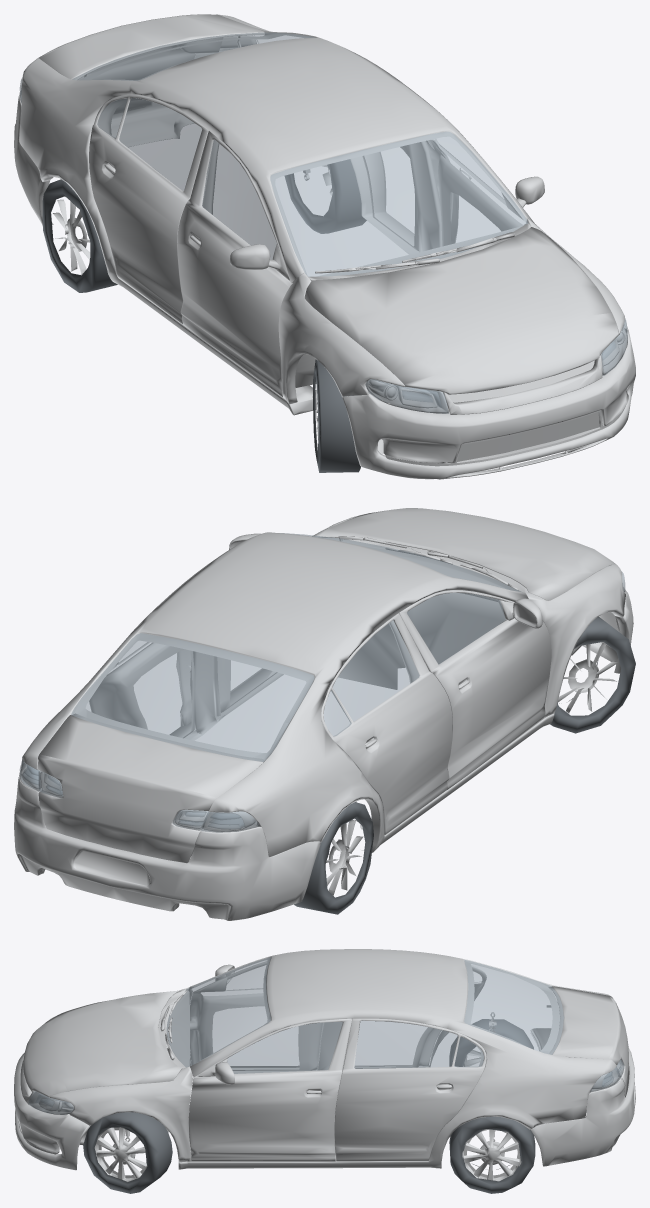
The model's file is sedan.glb.
The picture shows the model from 3 angles, top to bottom: view 1: azimuth 30°, elevation 25°; view 2: azimuth 150°, elevation 25°; view 3: azimuth 270°, elevation 25°; orthographic projection. The views are drawn at different scales.
Parts seen in each view (by area): view 1: Object_23, Object_209, Object_43, Object_25, Object_241, Object_137; view 2: Object_23, Object_43, Object_25, Object_241, Object_137, Object_209; view 3: Object_23, Object_43, Object_241, Object_209, Object_137, Object_25.
Part boxes in pixels (left/top/right/bottom): Object_23: left=14, top=14, right=635, bottom=479; Object_209: left=270, top=131, right=528, bottom=276; Object_43: left=19, top=32, right=627, bottom=413; Object_25: left=21, top=35, right=627, bottom=466; Object_241: left=42, top=159, right=366, bottom=472; Object_137: left=53, top=165, right=332, bottom=439; Object_23: left=14, top=508, right=633, bottom=920; Object_43: left=19, top=571, right=625, bottom=832; Object_25: left=21, top=536, right=625, bottom=831; Object_241: left=294, top=617, right=635, bottom=914; Object_137: left=326, top=642, right=618, bottom=895; Object_209: left=280, top=533, right=520, bottom=591; Object_23: left=14, top=949, right=635, bottom=1170; Object_43: left=28, top=960, right=624, bottom=1114; Object_241: left=83, top=1019, right=535, bottom=1193; Object_209: left=166, top=957, right=270, bottom=1067; Object_137: left=94, top=1012, right=521, bottom=1181; Object_25: left=18, top=977, right=622, bottom=1154.
Size of the model in its own units: 2.14 by 1.5 by 4.98.
